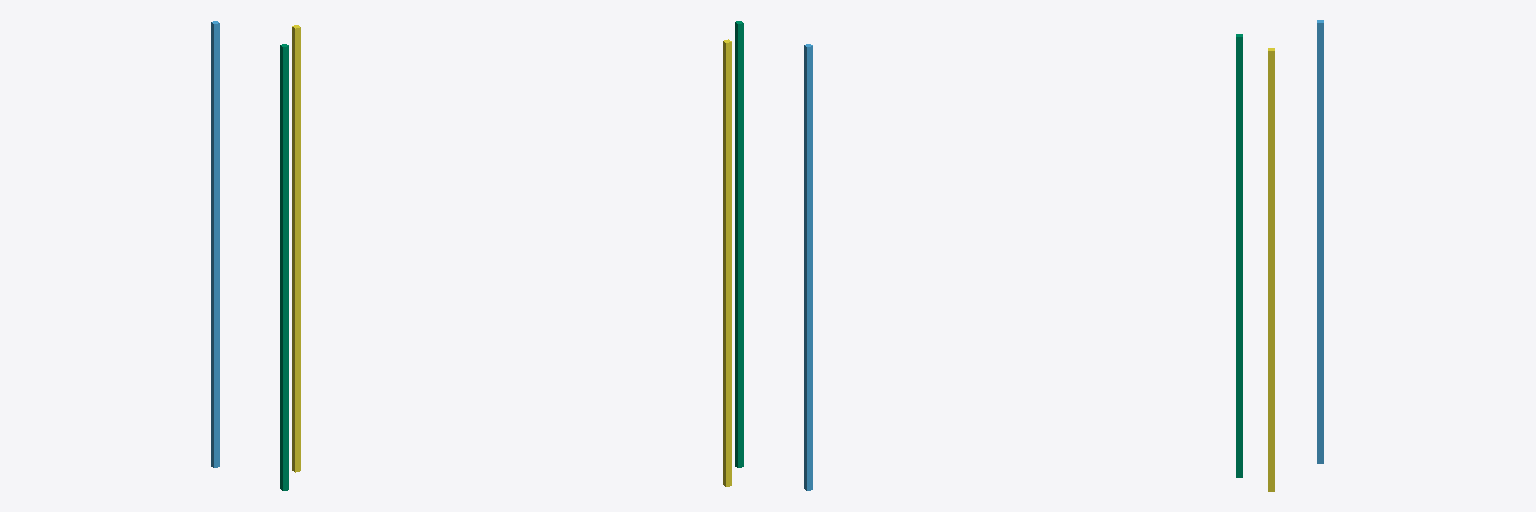
robot.urdf — poles:
<robot name="poles">
   <material name="Brown">
     <color rgba="83./255. 53./255. 10./255."/>
   </material>
   <material name="White">
     <color rgba="1 1 1"/>
   </material>
   <material name="Grey">
     <color rgba=".3 .3 .3"/>
   </material>
   <material name="Red">
     <color rgba="1 0 0"/>
   </material>
   <link name="world"/>

   <link name="pole1">
   	<inertial>
   		<mass value=".5" />
   		<origin xyz="0 0 1.5" rpy="0 0 0"/>
		  <inertia ixx="10"  ixy="0"  ixz="0" iyy="10" iyz="0" izz="1" />
   	</inertial>
  	<visual>
      <origin xyz="-0.021 -0.021 1.5" rpy="0 0 0" />
      <geometry>
        <box size="0.042 0.042 3"/>
      </geometry>
      <material name="White"/>
    </visual>
    <collision>
      <origin xyz="-0.021 -0.021 1.5" rpy="0 0 0" />
      <geometry>
        <box size="0.042 0.042 3"/>
      </geometry>
    </collision>
   </link>
   <joint name="pole1_weld" type="fixed">
    <parent link="world"/>
      <child link="pole1"/>
    <origin xyz=".7 .3 0" rpy="0 0 0" />
   </joint>

   <link name="pole2">
   	<inertial>
   		<mass value=".5" />
   		<origin xyz="0 0 1.5" rpy="0 0 0"/>
		  <inertia ixx="10"  ixy="0"  ixz="0" iyy="10" iyz="0" izz="1" />
   	</inertial>
  	<visual>
      <origin xyz="-0.021 -0.021 1.5" rpy="0 0 0" />
      <geometry>
        <box size="0.042 0.042 3"/>
      </geometry>
      <material name="White"/>
    </visual>
    <collision>
      <origin xyz="-0.021 -0.021 1.5" rpy="0 0 0" />
      <geometry>
        <box size="0.042 0.042 3"/>
      </geometry>
    </collision>
   </link>
   <joint name="pole2_weld" type="fixed">
    <parent link="world"/>
      <child link="pole2"/>
    <origin xyz=".9 -.2 0" rpy="0 0 0" />
   </joint>

   <link name="pole3">
   	<inertial>
   		<mass value=".5" />
   		<origin xyz="0 0 1.5" rpy="0 0 0"/>
		  <inertia ixx="10"  ixy="0"  ixz="0" iyy="10" iyz="0" izz="1" />
   	</inertial>
  	<visual>
      <origin xyz="-0.021 -0.021 1.5" rpy="0 0 0" />
      <geometry>
        <box size="0.042 0.042 3"/>
      </geometry>
      <material name="White"/>
    </visual>
    <collision>
      <origin xyz="-0.021 -0.021 1.5" rpy="0 0 0" />
      <geometry>
        <box size="0.042 0.042 3"/>
      </geometry>
    </collision>
   </link>
   <joint name="pole3_weld" type="fixed">
    <parent link="world"/>
      <child link="pole3"/>
    <origin xyz="1.1 0 0" rpy="0 0 0" />
   </joint>

</robot>

--- What the picture shows (computed from the rendered views, not written in the file) ---
Views: 3 orthographic renders of the robot side by side, from view 1: azimuth 30°, elevation 25°; view 2: azimuth 210°, elevation 25°; view 3: azimuth 270°, elevation 25°.
Model poles with 4 links and 3 joints (3 fixed), rooted at world, posed all joints at 0.
Links seen in each view (by area): view 1: pole3, pole2, pole1; view 2: pole3, pole2, pole1; view 3: pole1, pole2, pole3.
Boxes of the visible links, left/top/right/bottom form: pole3: left=292, top=25, right=300, bottom=472; pole2: left=280, top=44, right=288, bottom=490; pole1: left=211, top=21, right=219, bottom=467; pole3: left=723, top=39, right=731, bottom=486; pole2: left=735, top=21, right=743, bottom=467; pole1: left=804, top=44, right=812, bottom=490; pole1: left=1317, top=20, right=1323, bottom=463; pole2: left=1236, top=34, right=1242, bottom=477; pole3: left=1268, top=48, right=1274, bottom=491.
Size in the robot's own frame: 0.442 by 0.542 by 3 metres.
Geometry: primitives only (box / cylinder / sphere), no mesh files.
